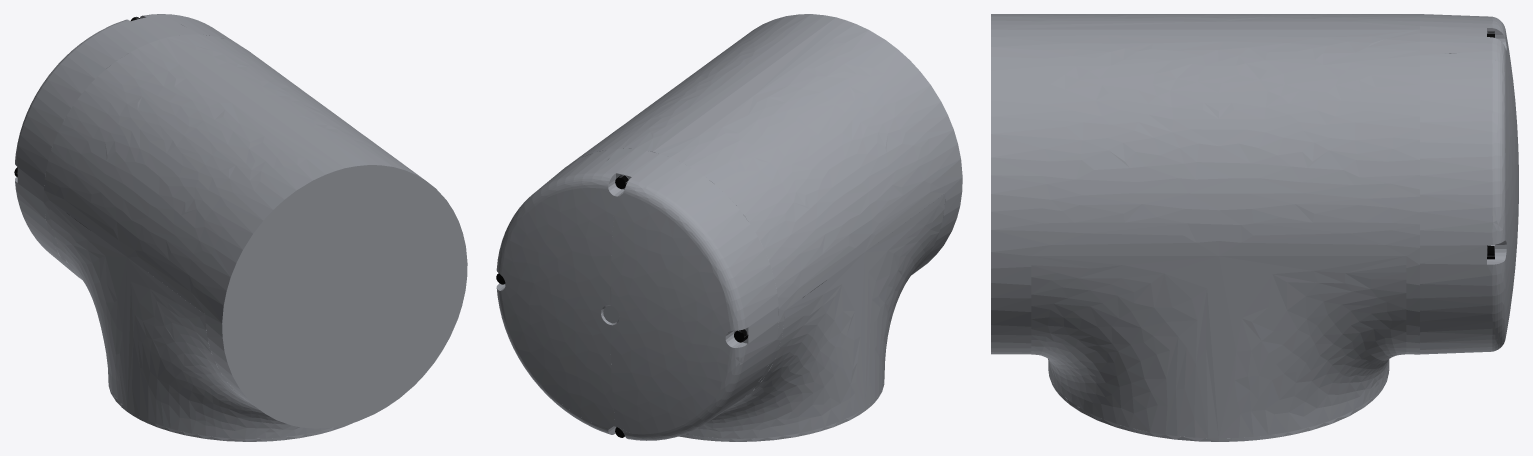
3 renders of one model, left to right at view 1: azimuth 30°, elevation 25°; view 2: azimuth 150°, elevation 25°; view 3: azimuth 270°, elevation 25°, orthographic. The views are drawn at different scales.
Parts seen in each view (by area): view 1: Link_1; view 2: Link_1; view 3: Link_1.
Part boxes in pixels (left/top/right/bottom): Link_1: left=14, top=14, right=467, bottom=441; Link_1: left=496, top=14, right=962, bottom=441; Link_1: left=991, top=14, right=1518, bottom=441.
Bounding box in the file's own units: 0.1273 × 0.1401 × 0.197.
1 material, 1 textured.
